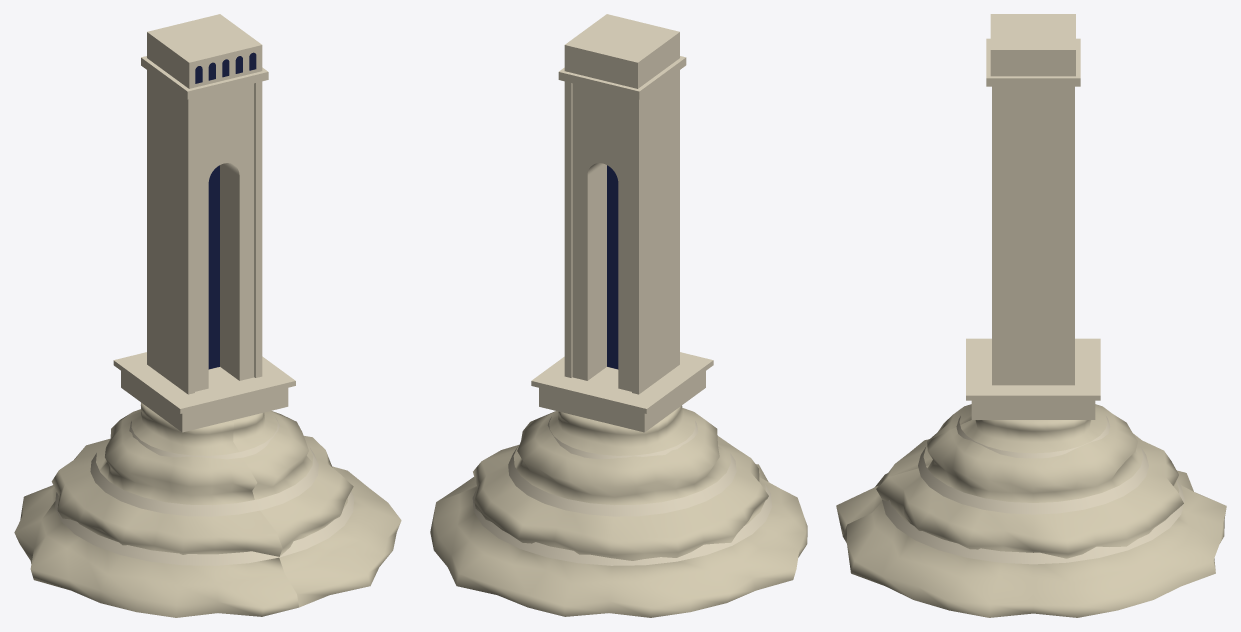
File: tower.glb
3 renders of one model, left to right at view 1: azimuth 30°, elevation 25°; view 2: azimuth 150°, elevation 25°; view 3: azimuth 270°, elevation 25°, orthographic.
Visible parts, largest first — view 1: tower, rock, doorway; view 2: rock, tower, doorway; view 3: rock, tower.
Part boxes in pixels (x1,y1,x2,y2): tower: [55, 14, 354, 565]; rock: [14, 402, 401, 617]; doorway: [208, 165, 219, 369]; rock: [430, 405, 807, 617]; tower: [472, 14, 771, 565]; doorway: [607, 165, 618, 369]; rock: [836, 404, 1226, 617]; tower: [882, 14, 1184, 564].
Size of the model in its own units: 35.27 by 49.6 by 34.82.
